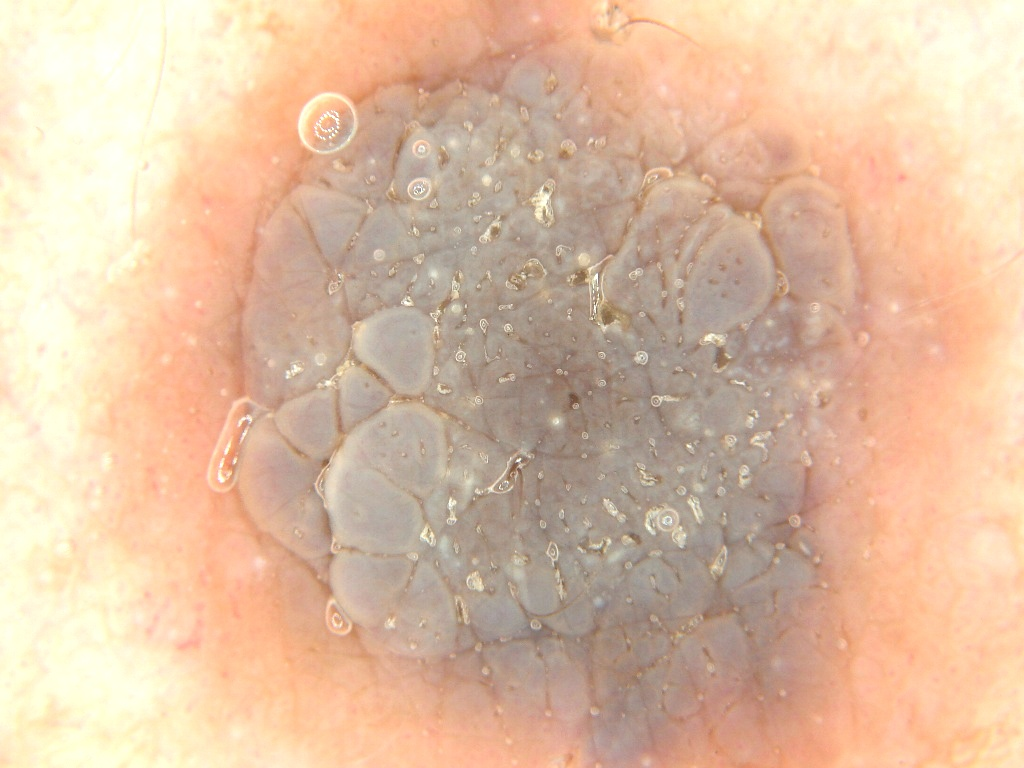Detected Lesion: (203, 1, 885, 768)
